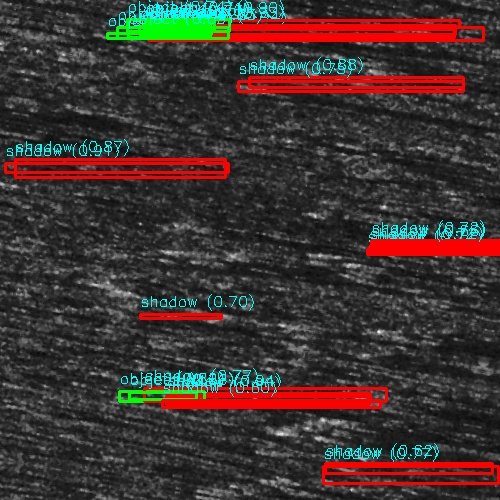rock: (255, 465, 400, 478), (340, 392, 423, 411), (394, 294, 467, 315), (144, 20, 217, 31), (0, 165, 50, 180), (128, 391, 201, 400), (220, 79, 261, 90), (101, 33, 184, 38), (414, 152, 467, 159), (339, 241, 402, 246), (122, 309, 163, 314), (355, 48, 386, 51)
shadow: (0, 38, 449, 47), (181, 20, 477, 31), (19, 165, 227, 180), (241, 79, 463, 90), (382, 392, 500, 411), (328, 465, 491, 478), (165, 391, 392, 400), (143, 33, 436, 38), (431, 294, 500, 315), (371, 241, 500, 246), (441, 152, 500, 159), (371, 48, 500, 51), (143, 309, 216, 314)
